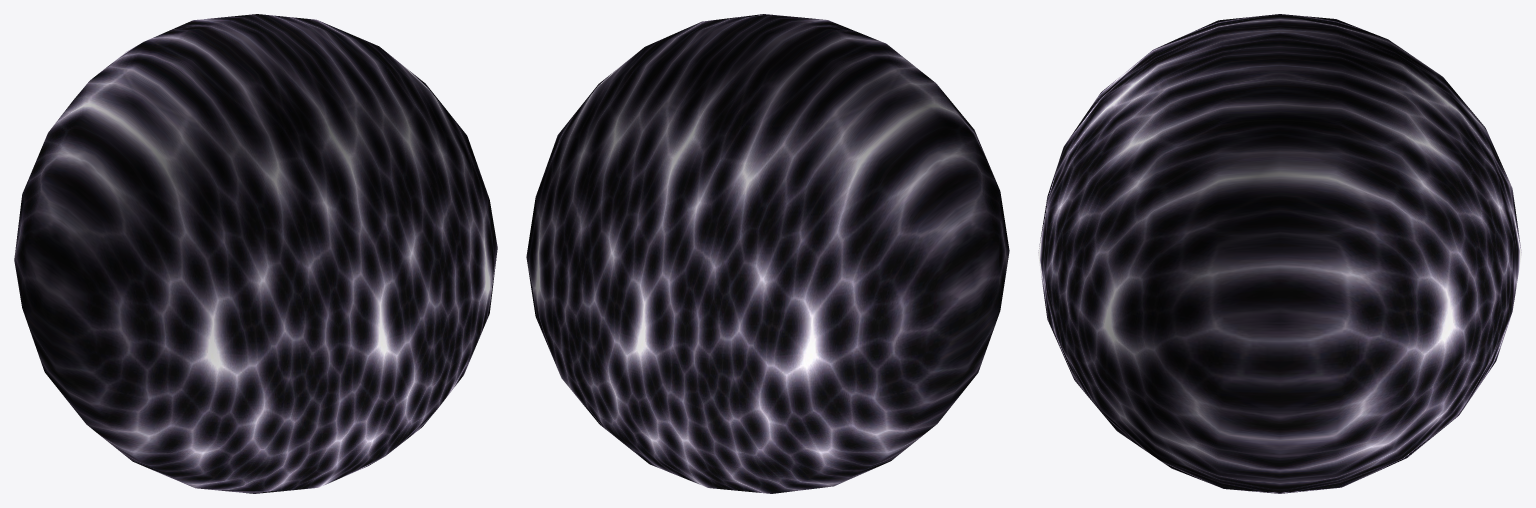
Rendered from galactus_empball.glb.
3 renders of one model, left to right at view 1: azimuth 30°, elevation 25°; view 2: azimuth 150°, elevation 25°; view 3: azimuth 270°, elevation 25°, orthographic.
Parts seen in each view (by area): view 1: galactus_empball_0; view 2: galactus_empball_0; view 3: galactus_empball_0.
Boxes of the visible parts, x1=… form: galactus_empball_0: x1=14, y1=14, x2=497, y2=493; galactus_empball_0: x1=526, y1=14, x2=1009, y2=493; galactus_empball_0: x1=1038, y1=14, x2=1521, y2=493.
Size of the model in its own units: 300 by 300 by 300.
Materials: 1 (1 with a texture image).
